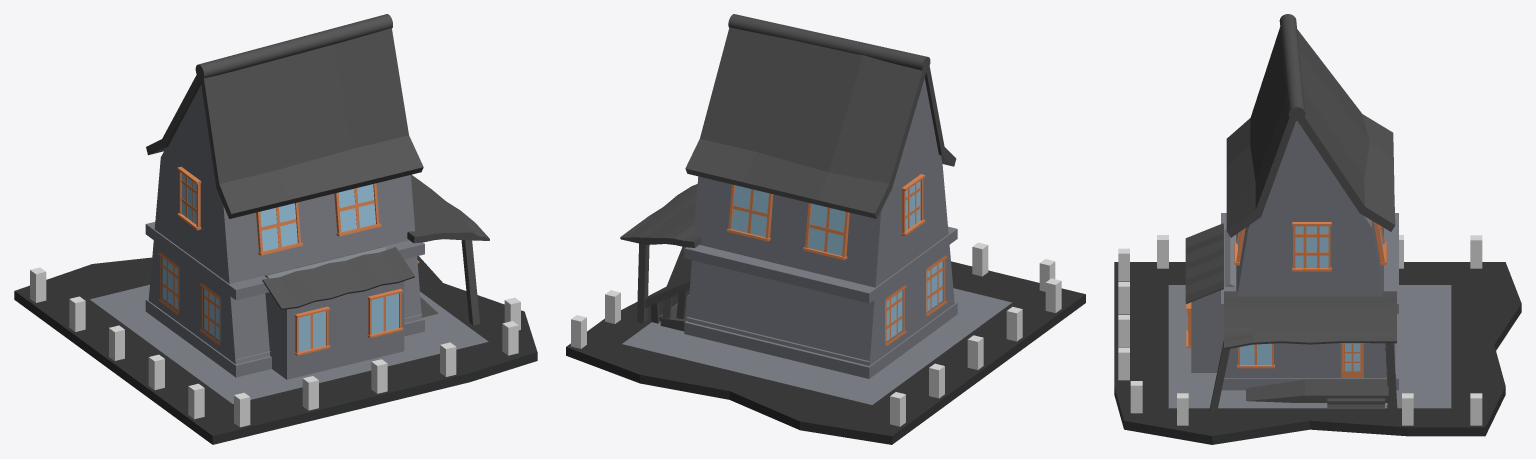
File: Scrumptious_House.fbx
3 views of the same model, side by side, from view 1: azimuth 30°, elevation 25°; view 2: azimuth 150°, elevation 25°; view 3: azimuth 270°, elevation 25° (orthographic). The views are drawn at different scales.
Visible parts, largest first — view 1: Cube.031, Roof, Cube, Cube.029, Cube.043, Cube.001, Cube.017, Cube.019, Cube.016, Cube.011, Cube.013, Cube.015 (+3 smaller); view 2: Cube.031, Roof, Cube, Cube.043, Cube.016, Cube.017, Cube.018, Cube.014, Cube.019, Cube.001, Cube.007; view 3: Cube, Cube.031, Roof, Cube.043, Cube.029, Cube.001, Cube.005, Cube.011, Cube.012, Cube.013, Cube.016.
Part boxes in pixels (x1,y1,x2,y2): Cube.031: [145, 85, 424, 379]; Roof: [146, 14, 423, 218]; Cube: [14, 256, 537, 444]; Cube.029: [262, 247, 414, 309]; Cube.043: [407, 174, 489, 325]; Cube.001: [30, 267, 46, 302]; Cube.017: [148, 354, 164, 389]; Cube.019: [69, 296, 85, 331]; Cube.016: [188, 383, 204, 419]; Cube.011: [502, 321, 518, 355]; Cube.013: [371, 359, 387, 393]; Cube.015: [234, 392, 250, 427]; Cube.031: [684, 78, 957, 378]; Roof: [685, 14, 956, 218]; Cube: [566, 246, 1085, 444]; Cube.043: [620, 184, 701, 331]; Cube.016: [1045, 278, 1061, 312]; Cube.017: [1006, 306, 1022, 341]; Cube.018: [967, 335, 983, 369]; Cube.014: [972, 242, 988, 276]; Cube.019: [929, 363, 944, 398]; Cube.001: [890, 392, 905, 426]; Cube.007: [605, 290, 620, 323]; Cube: [1114, 262, 1521, 444]; Cube.031: [1186, 121, 1398, 390]; Roof: [1226, 14, 1395, 237]; Cube.043: [1209, 291, 1397, 413]; Cube.029: [1185, 223, 1223, 303]; Cube.001: [1470, 235, 1482, 268]; Cube.005: [1470, 393, 1482, 425]; Cube.011: [1130, 381, 1142, 413]; Cube.012: [1118, 347, 1129, 380]; Cube.013: [1118, 314, 1129, 347]; Cube.016: [1157, 235, 1168, 268].
Size of the model in its own units: 1053 by 837 by 1041.
